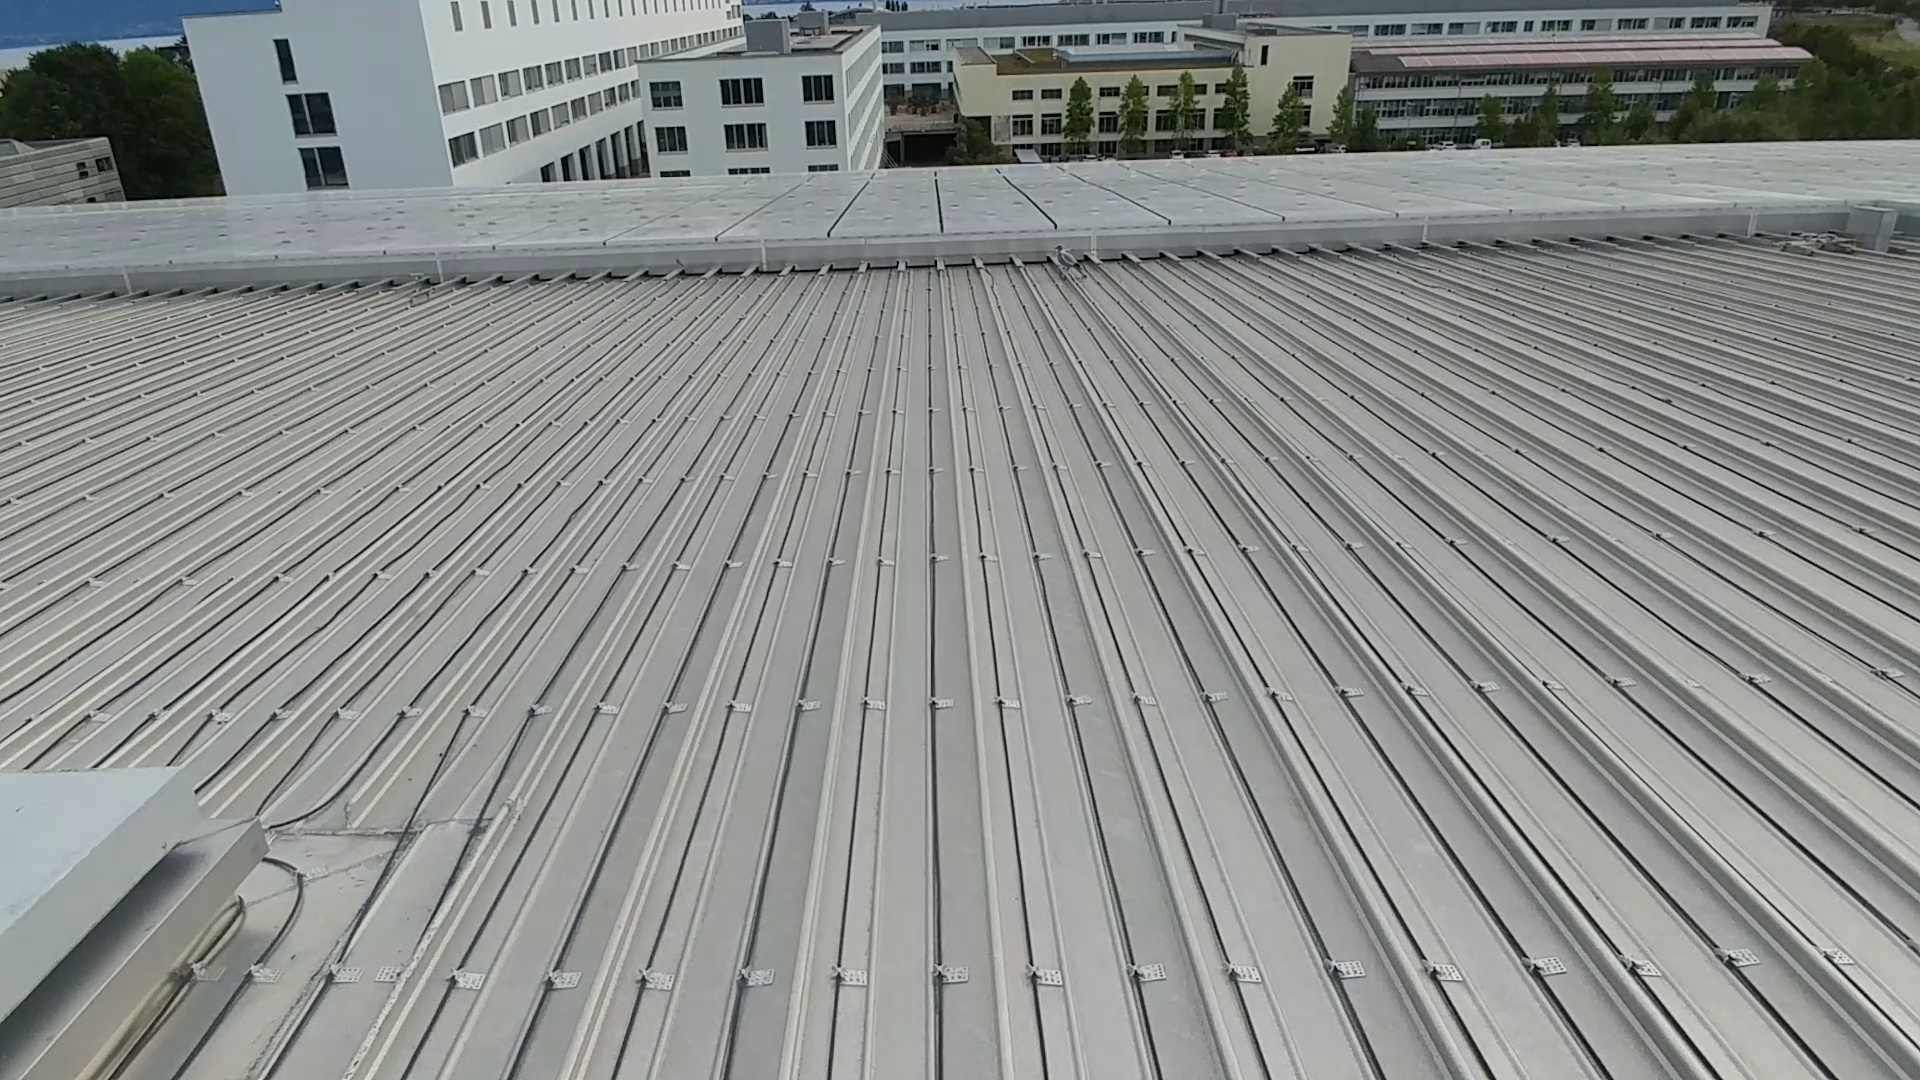Pigeon: (1044, 243, 1087, 277)
